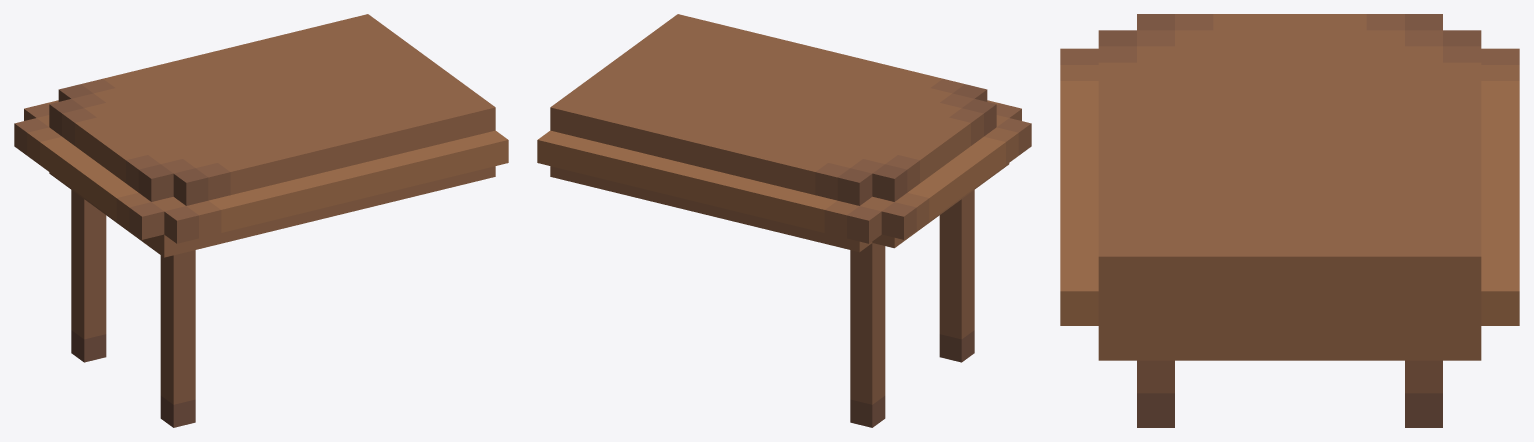
File: Interior_Furniture_Table_Piece_Long_Type02_01.obj
The picture shows the model from 3 angles, left to right: view 1: azimuth 30°, elevation 25°; view 2: azimuth 150°, elevation 25°; view 3: azimuth 270°, elevation 25°; orthographic projection. The views are drawn at different scales.
Bounding box in the file's own units: 1.6 × 1.1 × 1.2.
1 material, 1 textured.
